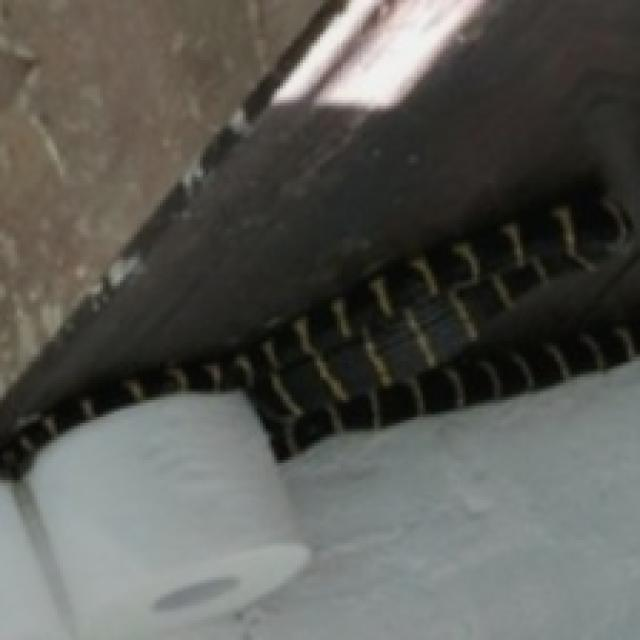mangrove cat snake: (0, 189, 637, 477)
